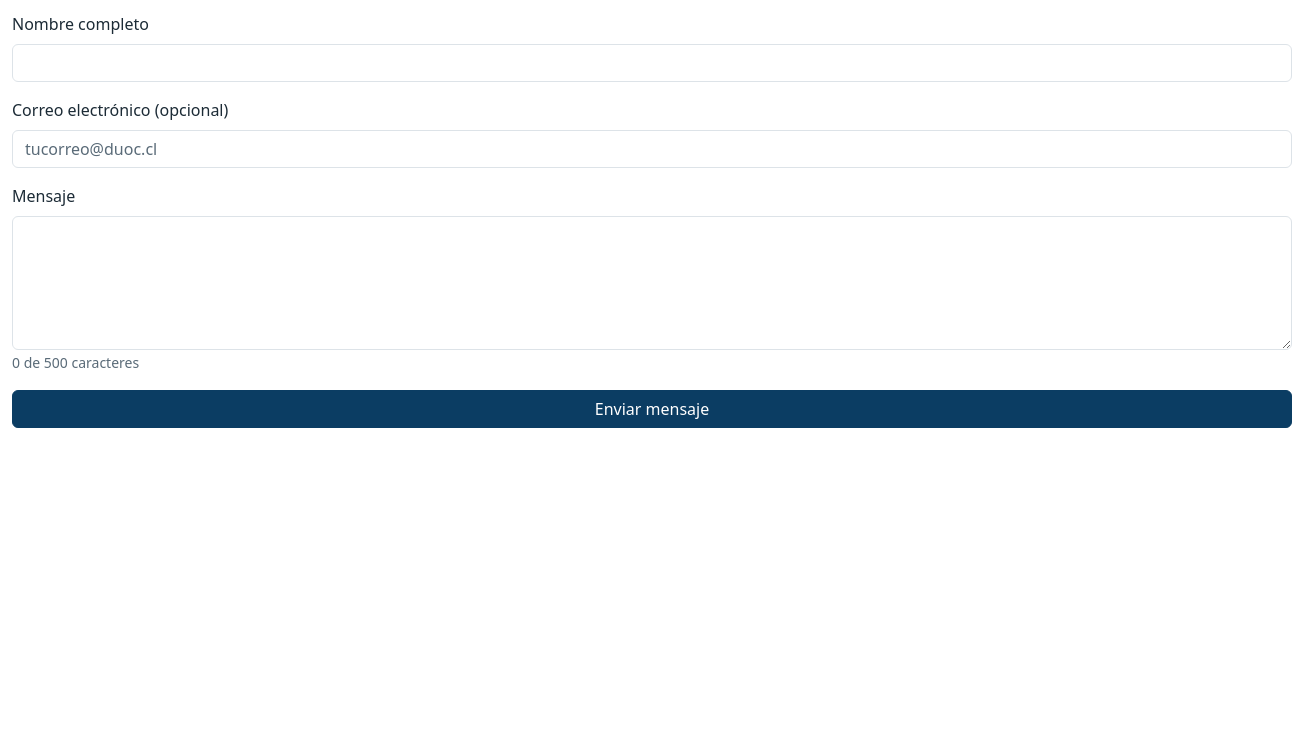
Test case: FormularioContacto › con datos válidos confirma el envío y limpia el formulario
Type "Ana Pérez" into the field labelled "Nombre completo" at (652,63), box [12,44,1292,82]
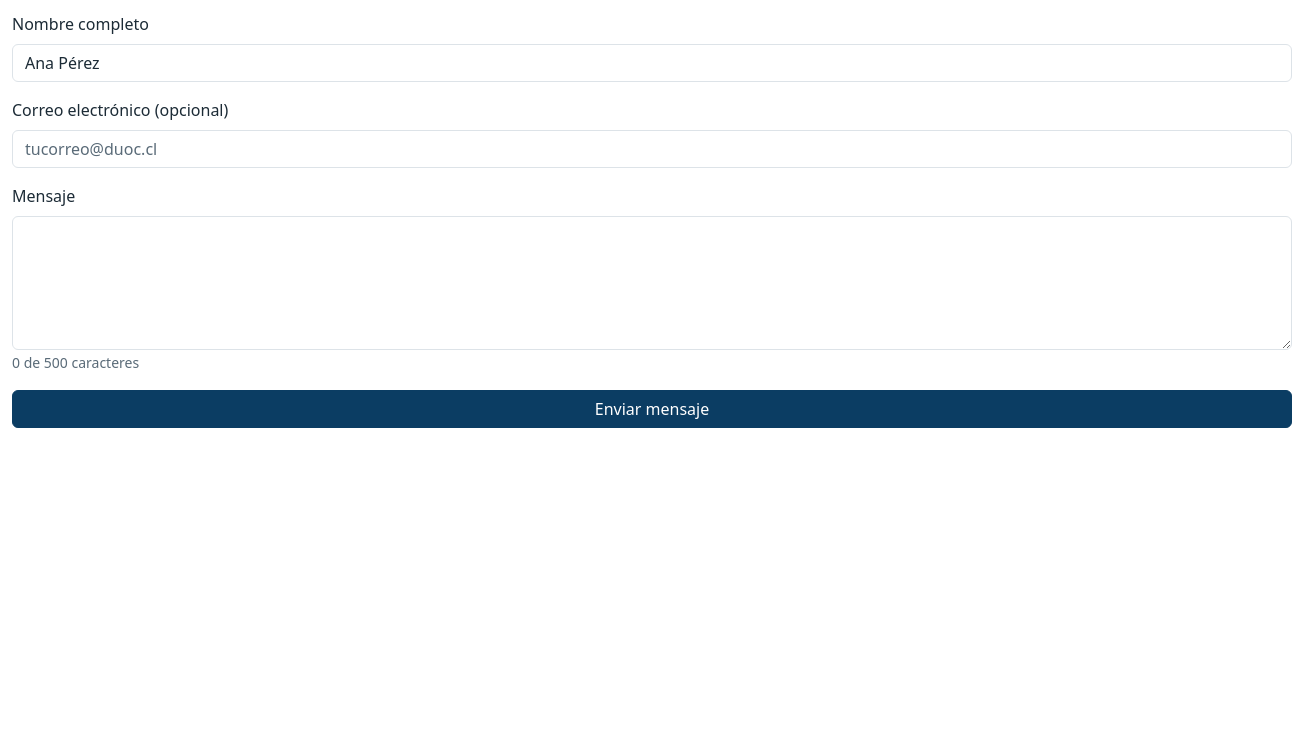
Type "Necesito una cotización." into the text box labelled "Mensaje" at (652,283), box [12,216,1292,350]
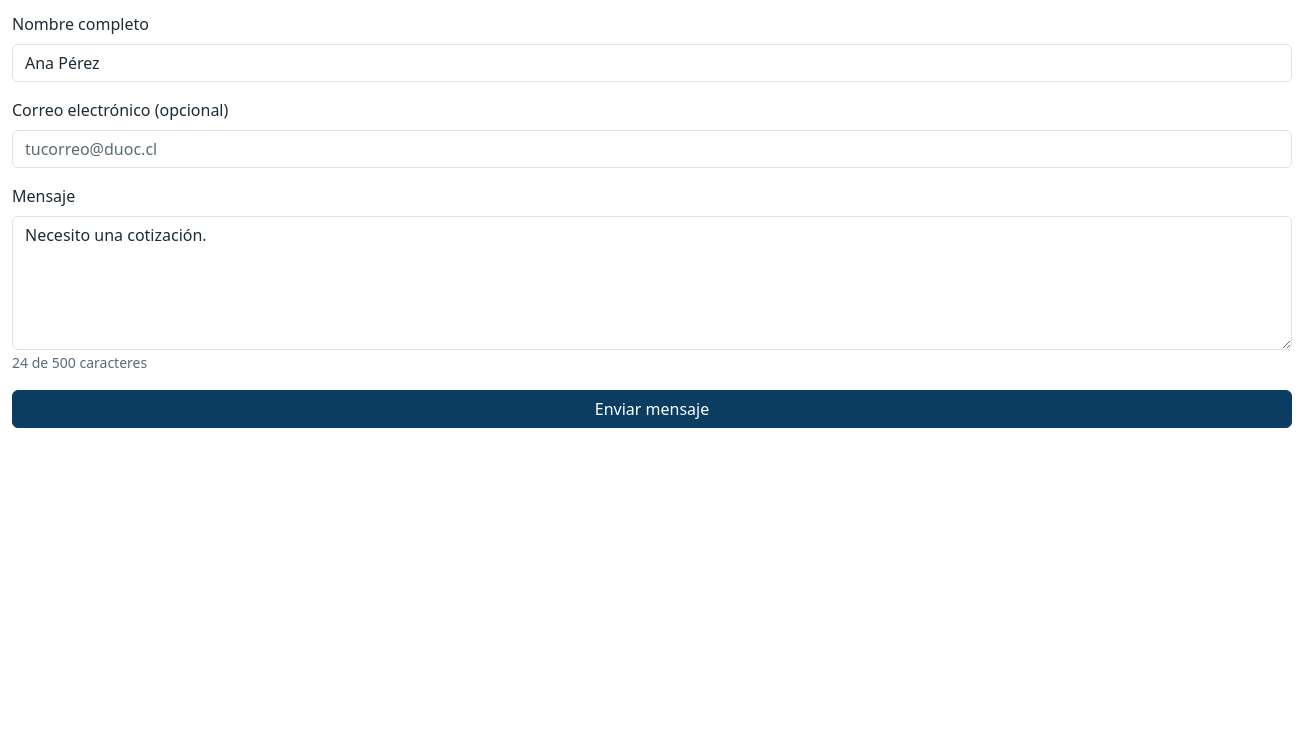
Click the button "Enviar mensaje" at (652,409), box [12,390,1292,428]
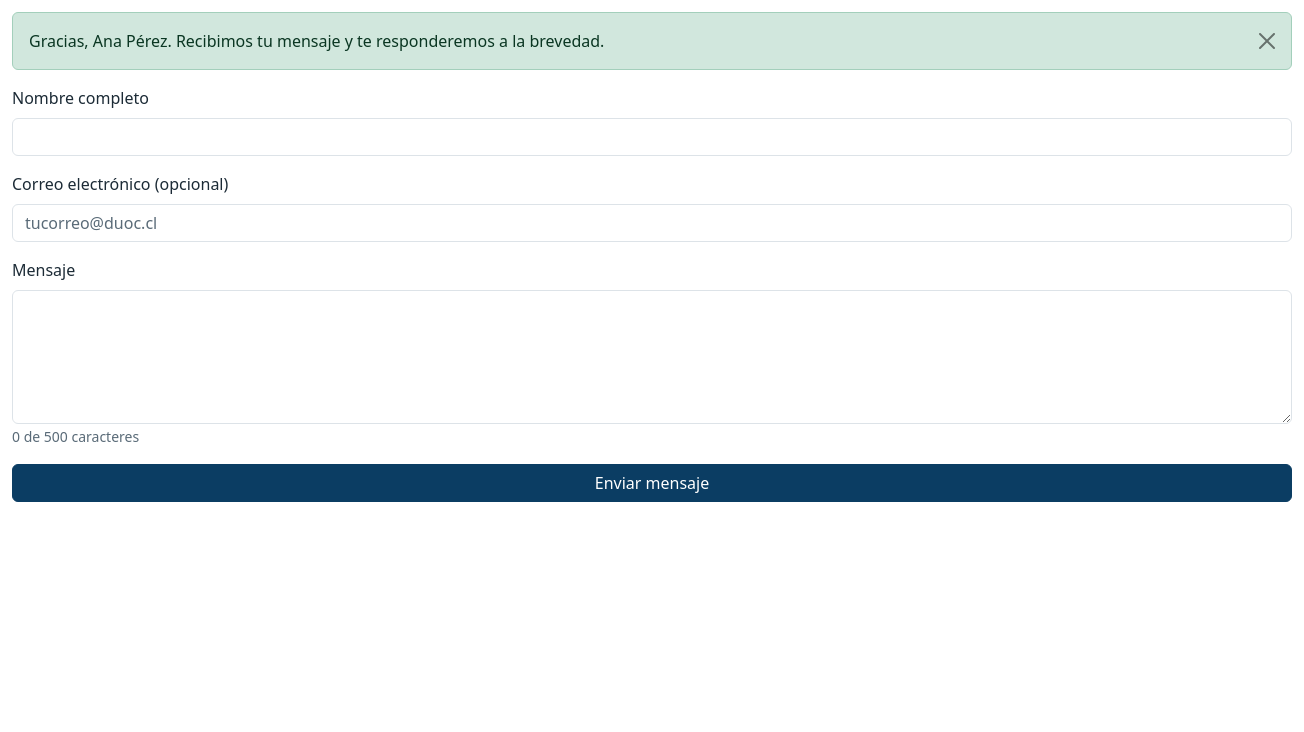
Now the message shows "Gracias, Ana Pérez", box [12,12,1292,70]
Now the field labelled "Nombre completo" is empty, box [12,118,1292,156]
